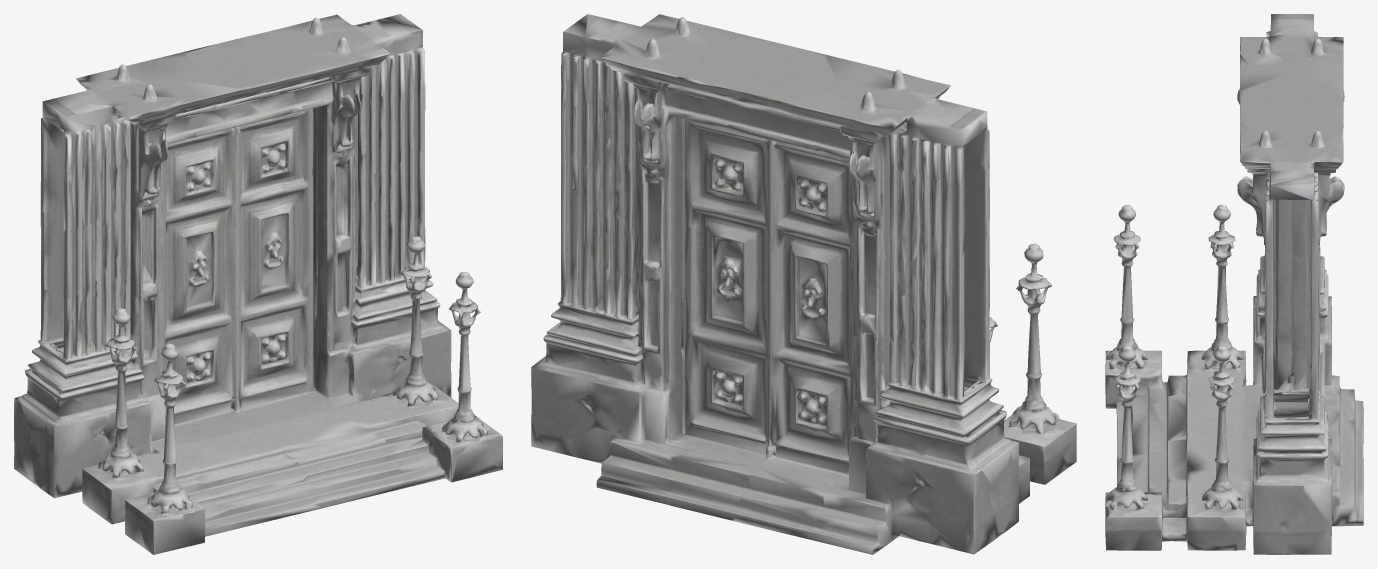
File: puerta-nueva-draco.glb
3 views of the same model, side by side, from view 1: azimuth 30°, elevation 25°; view 2: azimuth 150°, elevation 25°; view 3: azimuth 270°, elevation 25° (orthographic). The views are drawn at different scales.
Visible parts, largest first — view 1: mesh_node; view 2: mesh_node; view 3: mesh_node.
Part boxes in pixels (x1,y1,x2,y2): mesh_node: (14, 14, 502, 554); mesh_node: (531, 14, 1076, 554); mesh_node: (1105, 14, 1363, 554).
Bounding box in the file's own units: 1.9 × 1.79 × 1.09.
1 material, 1 textured.
